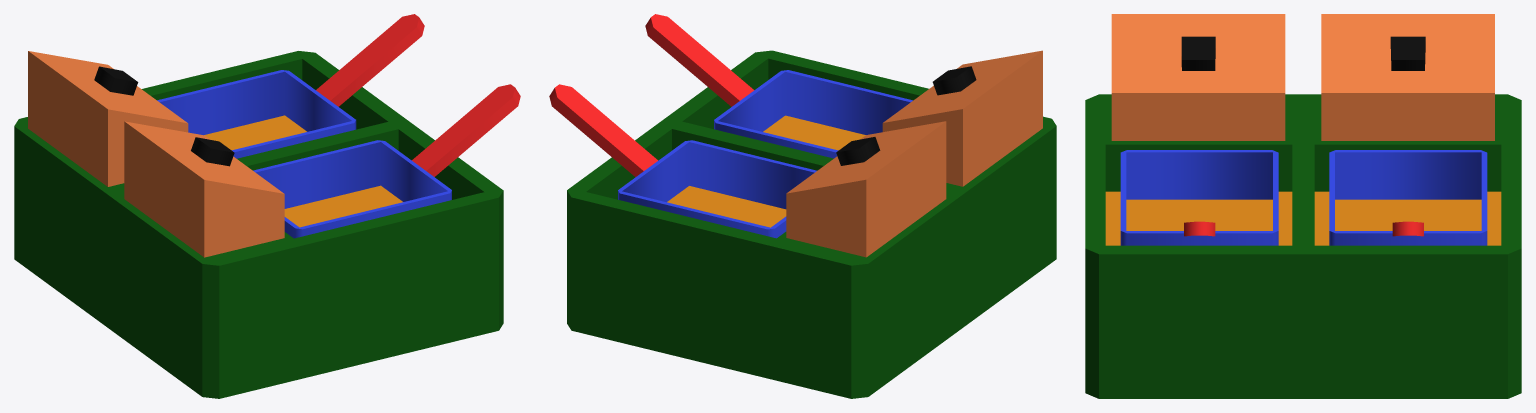
File: tempura shrim bep nuong.FBX
3 views of the same model, side by side, from view 1: azimuth 30°, elevation 25°; view 2: azimuth 150°, elevation 25°; view 3: azimuth 270°, elevation 25° (orthographic). The views are drawn at different scales.
Visible parts, largest first — view 1: Box1185; view 2: Box1185; view 3: Box1185.
Boxes of the visible parts, x1,y1,x2,y2 form: Box1185: [14, 14, 520, 398]; Box1185: [549, 14, 1056, 398]; Box1185: [1085, 14, 1521, 398].
Size of the model in its own units: 2.43 by 1.35 by 2.32.
